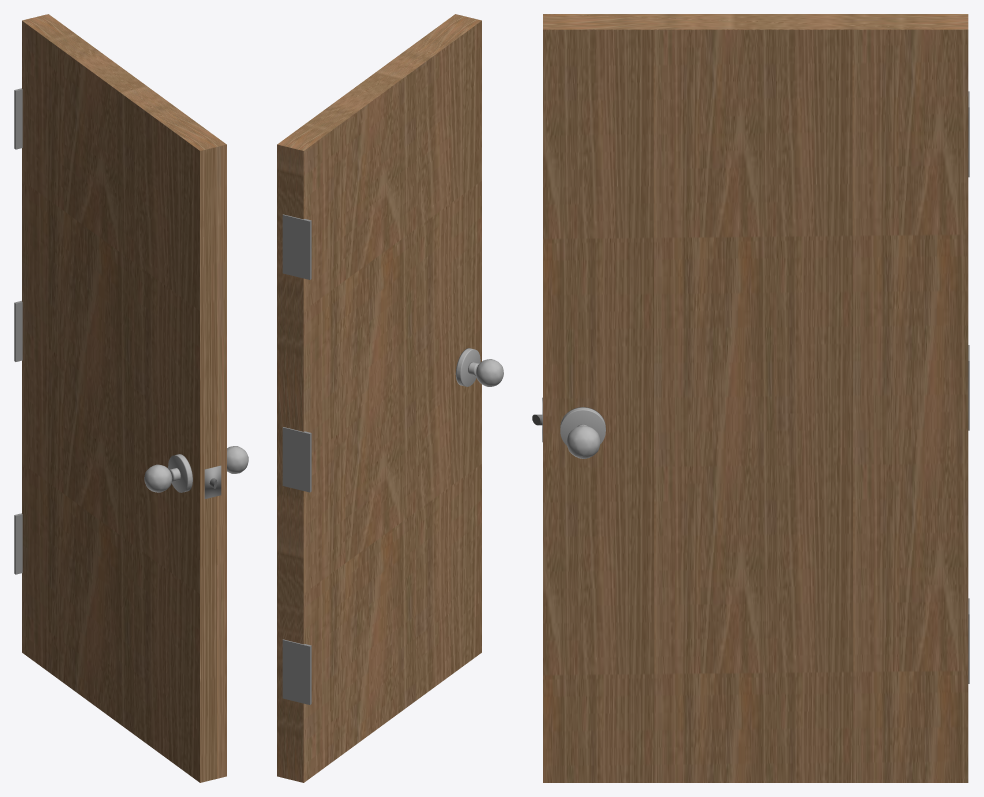
File: Door_with_Hinges.fbx
The picture shows the model from 3 angles, left to right: view 1: azimuth 30°, elevation 25°; view 2: azimuth 150°, elevation 25°; view 3: azimuth 270°, elevation 25°; orthographic projection. The views are drawn at different scales.
Visible parts, largest first — view 1: Cube, Cylinder.001, Cube.005, Cube.009, Cube.007, Cylinder.012, Cylinder.009; view 2: Cube, Cube.007, Cube.005, Cube.009, Cylinder.001; view 3: Cube, Cylinder.012.
Boxes of the visible parts, x1,y1,x2,y2 form: Cube: (22,14,226,782); Cylinder.001: (144,454,192,492); Cube.005: (14,88,22,149); Cube.009: (14,513,22,574); Cube.007: (14,300,22,361); Cylinder.012: (227,446,248,473); Cylinder.009: (204,465,221,498); Cube: (277,14,481,782); Cube.007: (282,427,311,492); Cube.005: (282,214,311,279); Cube.009: (282,639,311,704); Cylinder.001: (455,348,503,386); Cube: (543,14,968,782); Cylinder.012: (560,407,605,458).
Bounding box in the file's own units: 36.62 × 220 × 116.
5 materials, 1 textured.
